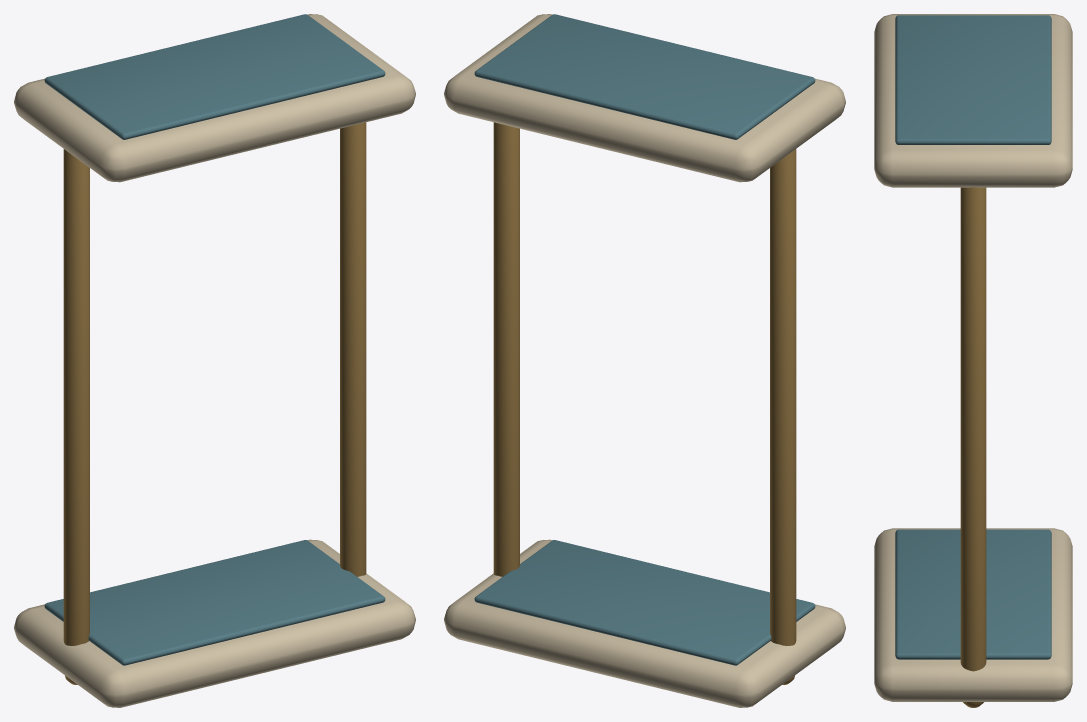
File: light-clock.glb
3 renders of one model, left to right at view 1: azimuth 30°, elevation 25°; view 2: azimuth 150°, elevation 25°; view 3: azimuth 270°, elevation 25°, orthographic. The views are drawn at different scales.
Parts seen in each view (by area): view 1: LightClockFrame; view 2: LightClockFrame; view 3: LightClockFrame.
Boxes of the visible parts, x1,y1,x2,y2 form: LightClockFrame: (14,14,415,707); LightClockFrame: (444,14,845,707); LightClockFrame: (874,14,1072,707).
Bounding box in the file's own units: 1.25 × 2.19 × 0.7.
